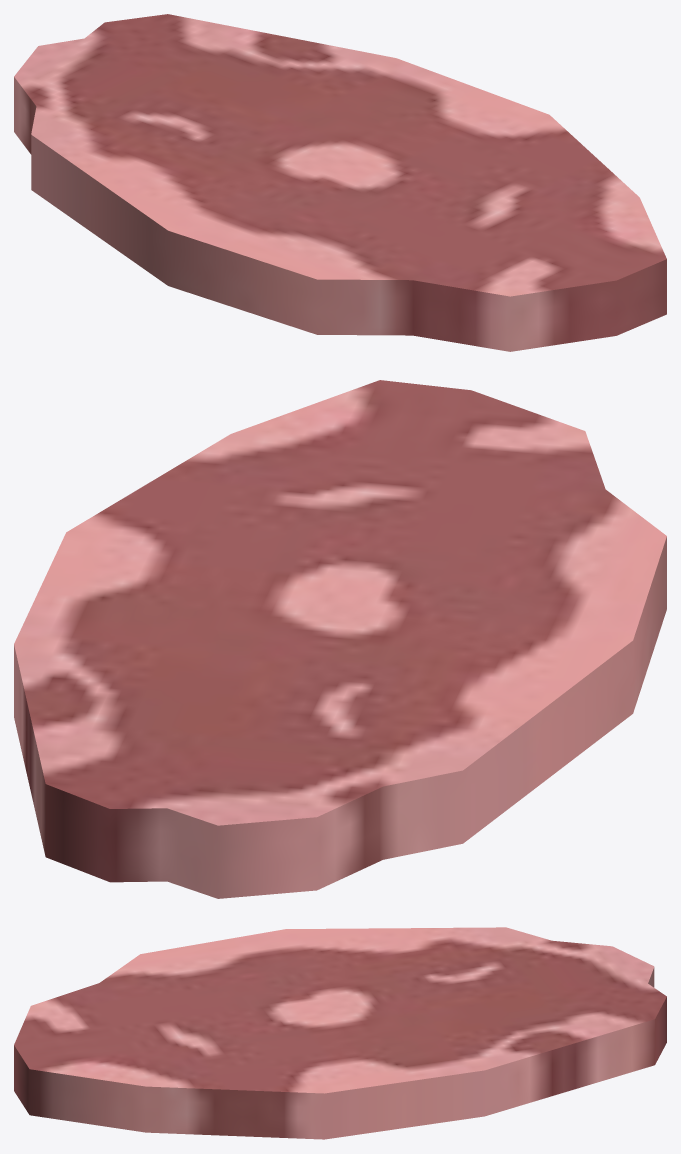
File: meat1.glb
The picture shows the model from 3 angles, top to bottom: view 1: azimuth 30°, elevation 25°; view 2: azimuth 150°, elevation 25°; view 3: azimuth 270°, elevation 25°; orthographic projection. The views are drawn at different scales.
Size of the model in its own units: 0.3517 by 0.0455 by 0.5843.
Materials: 1 (1 with a texture image).
